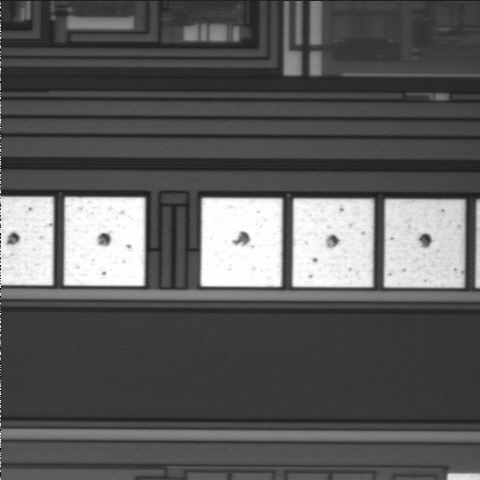pad: (292, 199, 374, 287), (64, 197, 145, 286), (201, 198, 282, 287), (384, 199, 465, 288)
